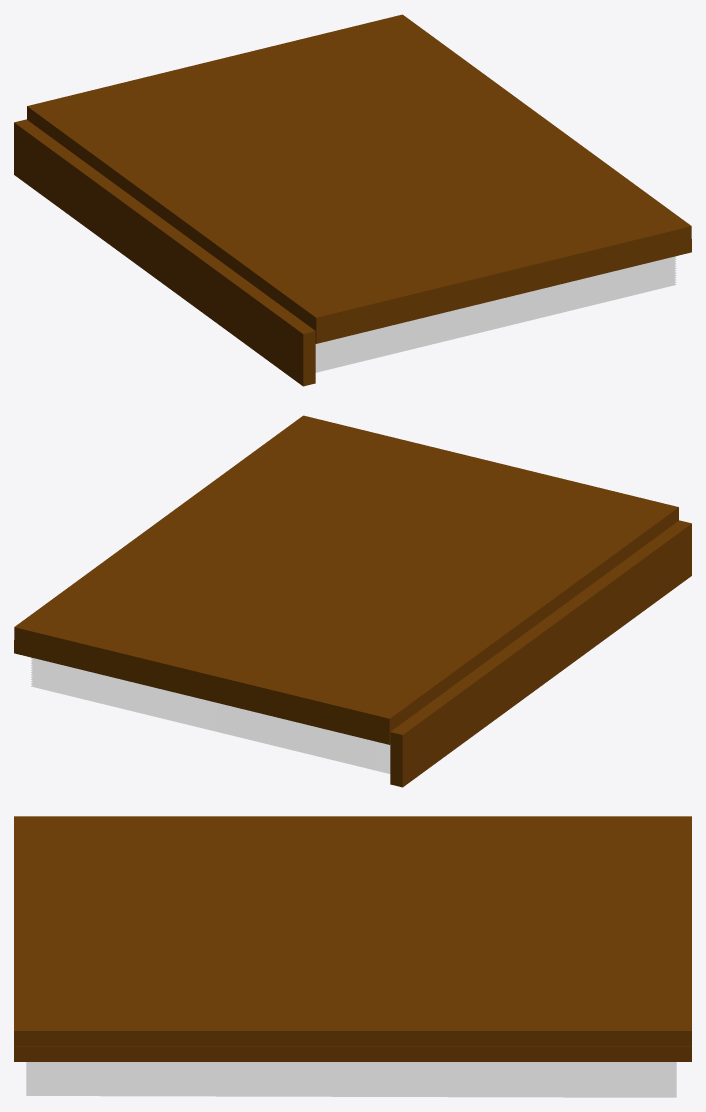
The model's file is Book.fbx.
3 renders of one model, top to bottom at view 1: azimuth 30°, elevation 25°; view 2: azimuth 150°, elevation 25°; view 3: azimuth 270°, elevation 25°, orthographic. The views are drawn at different scales.
Parts seen in each view (by area): view 1: Cover_Left, Spine, Cover_Right, Page.005, Page.006, Page.001, Page.002, Page.009, Page.010, Page.007, Page.003, Page.004 (+4 smaller); view 2: Cover_Left, Spine, Cover_Right, Page.011, Page.002, Page.007, Page.003, Page.006, Page.010, Page.005, Page.001, Page.004 (+4 smaller); view 3: Cover_Left, Cover_Right, Page.003, Page.006, Page.007, Page.009, Page, Page.010, Page.004, Page.002, Page.001, Page.005 (+3 smaller).
Boxes of the visible parts, box(x1,y1,x2,y2) form: Cover_Left: box(27, 14, 691, 330); Spine: box(14, 119, 315, 386); Cover_Right: box(27, 119, 691, 343); Page.005: box(315, 271, 676, 361); Page.006: box(315, 269, 676, 358); Page.001: box(315, 281, 676, 370); Page.002: box(315, 278, 676, 367); Page.009: box(315, 262, 676, 351); Page.010: box(315, 260, 676, 349); Page.007: box(315, 267, 676, 356); Page.003: box(315, 276, 676, 365); Page.004: box(315, 274, 676, 363); Cover_Left: box(14, 415, 678, 731); Spine: box(390, 520, 691, 787); Cover_Right: box(14, 520, 678, 744); Page.011: box(31, 659, 390, 748); Page.002: box(31, 680, 390, 769); Page.007: box(31, 668, 390, 757); Page.003: box(31, 678, 390, 766); Page.006: box(31, 671, 390, 760); Page.010: box(31, 662, 390, 750); Page.005: box(31, 673, 390, 762); Page.001: box(31, 682, 390, 771); Page.004: box(31, 675, 390, 764); Cover_Left: box(14, 816, 691, 1046); Cover_Right: box(14, 1046, 691, 1061); Page.003: box(26, 1085, 676, 1089); Page.006: box(26, 1077, 676, 1081); Page.007: box(26, 1074, 676, 1078); Page.009: box(26, 1069, 676, 1073); Page: box(26, 1093, 676, 1097); Page.010: box(26, 1066, 676, 1070); Page.004: box(26, 1082, 676, 1086); Page.002: box(26, 1088, 676, 1092); Page.001: box(26, 1090, 676, 1094); Page.005: box(26, 1079, 676, 1084).
Bounding box in the file's own units: 155 × 25 × 200.
